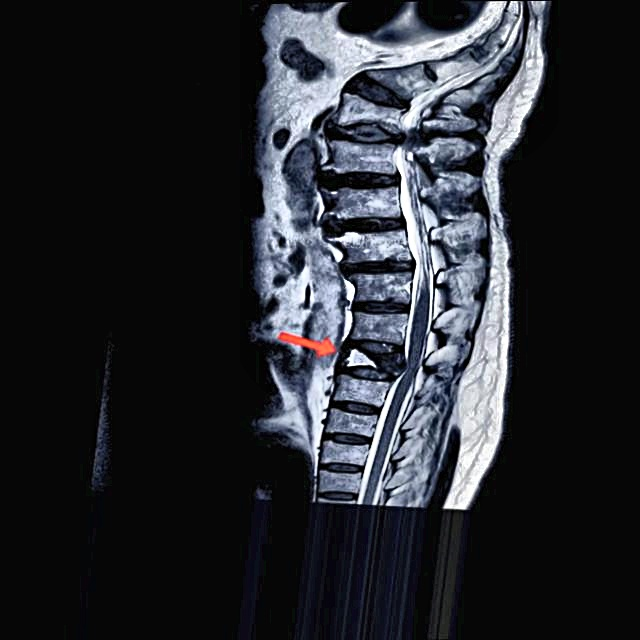Comminuted: (322, 320, 412, 395)
